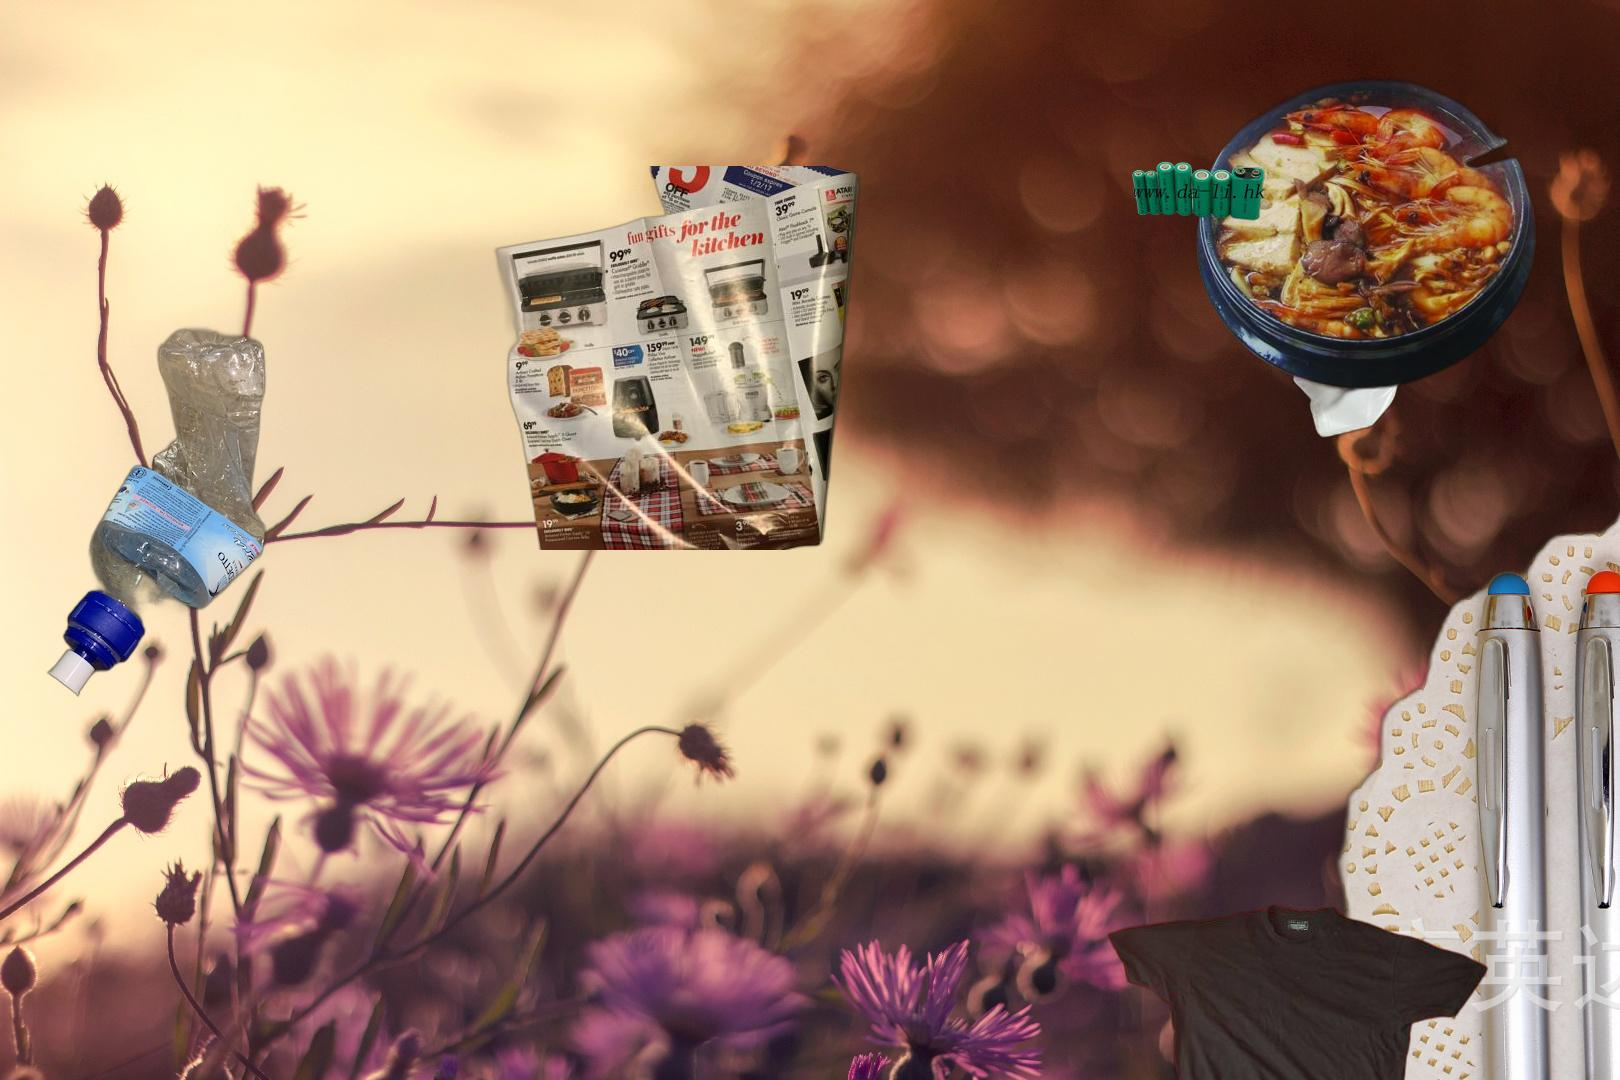battery: (1129, 159, 1268, 223)
biological: (1193, 74, 1539, 425)
clothes: (1105, 902, 1489, 1080)
paper: (491, 166, 864, 550)
penholder: (1254, 470, 1620, 1080)
plastic-bottles: (45, 323, 270, 702), (1289, 321, 1413, 444)
